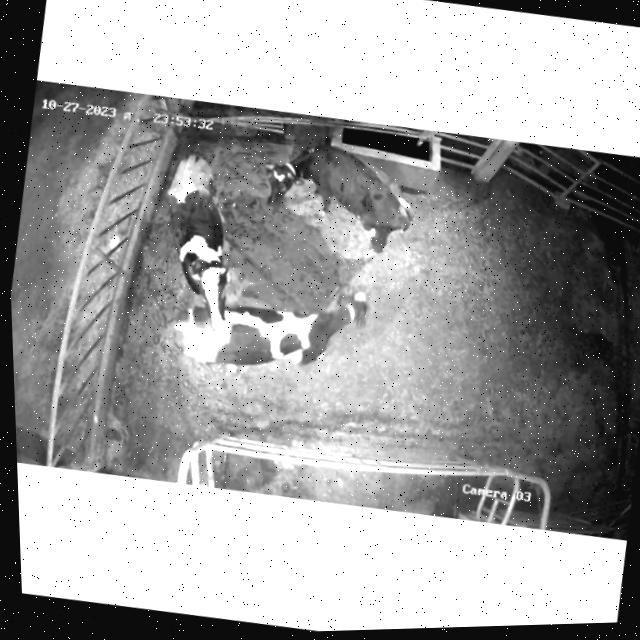propping: (171, 259, 262, 349)
